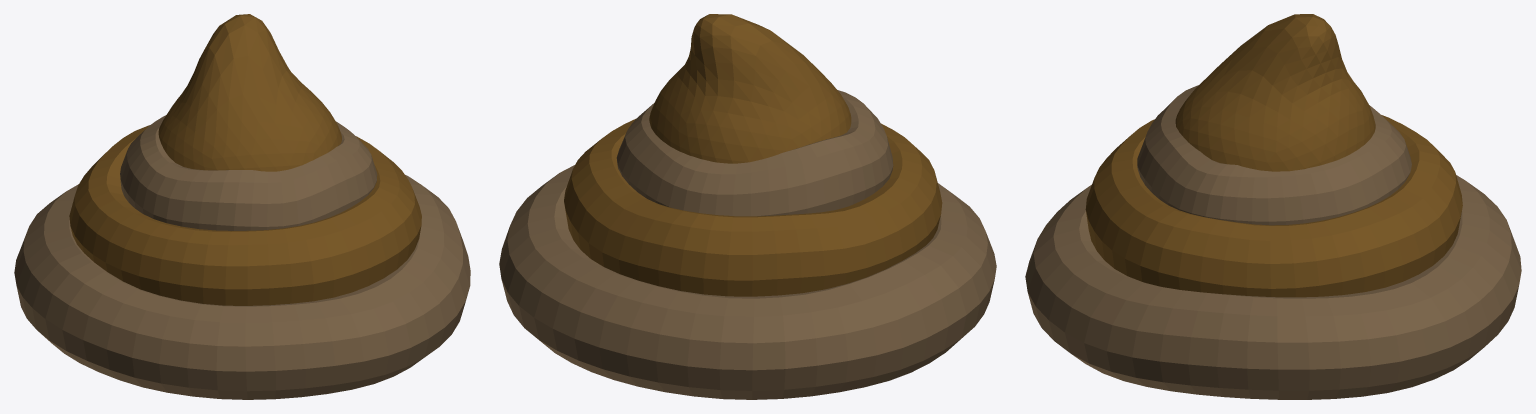
File: poop.glb
3 views of the same model, side by side, from view 1: azimuth 30°, elevation 25°; view 2: azimuth 150°, elevation 25°; view 3: azimuth 270°, elevation 25° (orthographic). The views are drawn at different scales.
Visible parts, largest first — view 1: base_0, base_1, top, base_2; view 2: base_0, base_1, top, base_2; view 3: base_0, base_1, top, base_2.
Boxes of the visible parts, box(x1,y1,x2,y2) form: base_0: box(14, 175, 470, 399); base_1: box(69, 125, 421, 305); top: box(158, 14, 341, 171); base_2: box(120, 115, 377, 230); base_0: box(499, 165, 996, 399); base_1: box(564, 118, 942, 296); top: box(649, 14, 851, 163); base_2: box(616, 90, 893, 216); base_0: box(1025, 175, 1521, 399); base_1: box(1085, 115, 1462, 297); top: box(1175, 14, 1375, 171); base_2: box(1137, 85, 1411, 225).
Bounding box in the file's own units: 0.3723 × 0.2555 × 0.3703.
